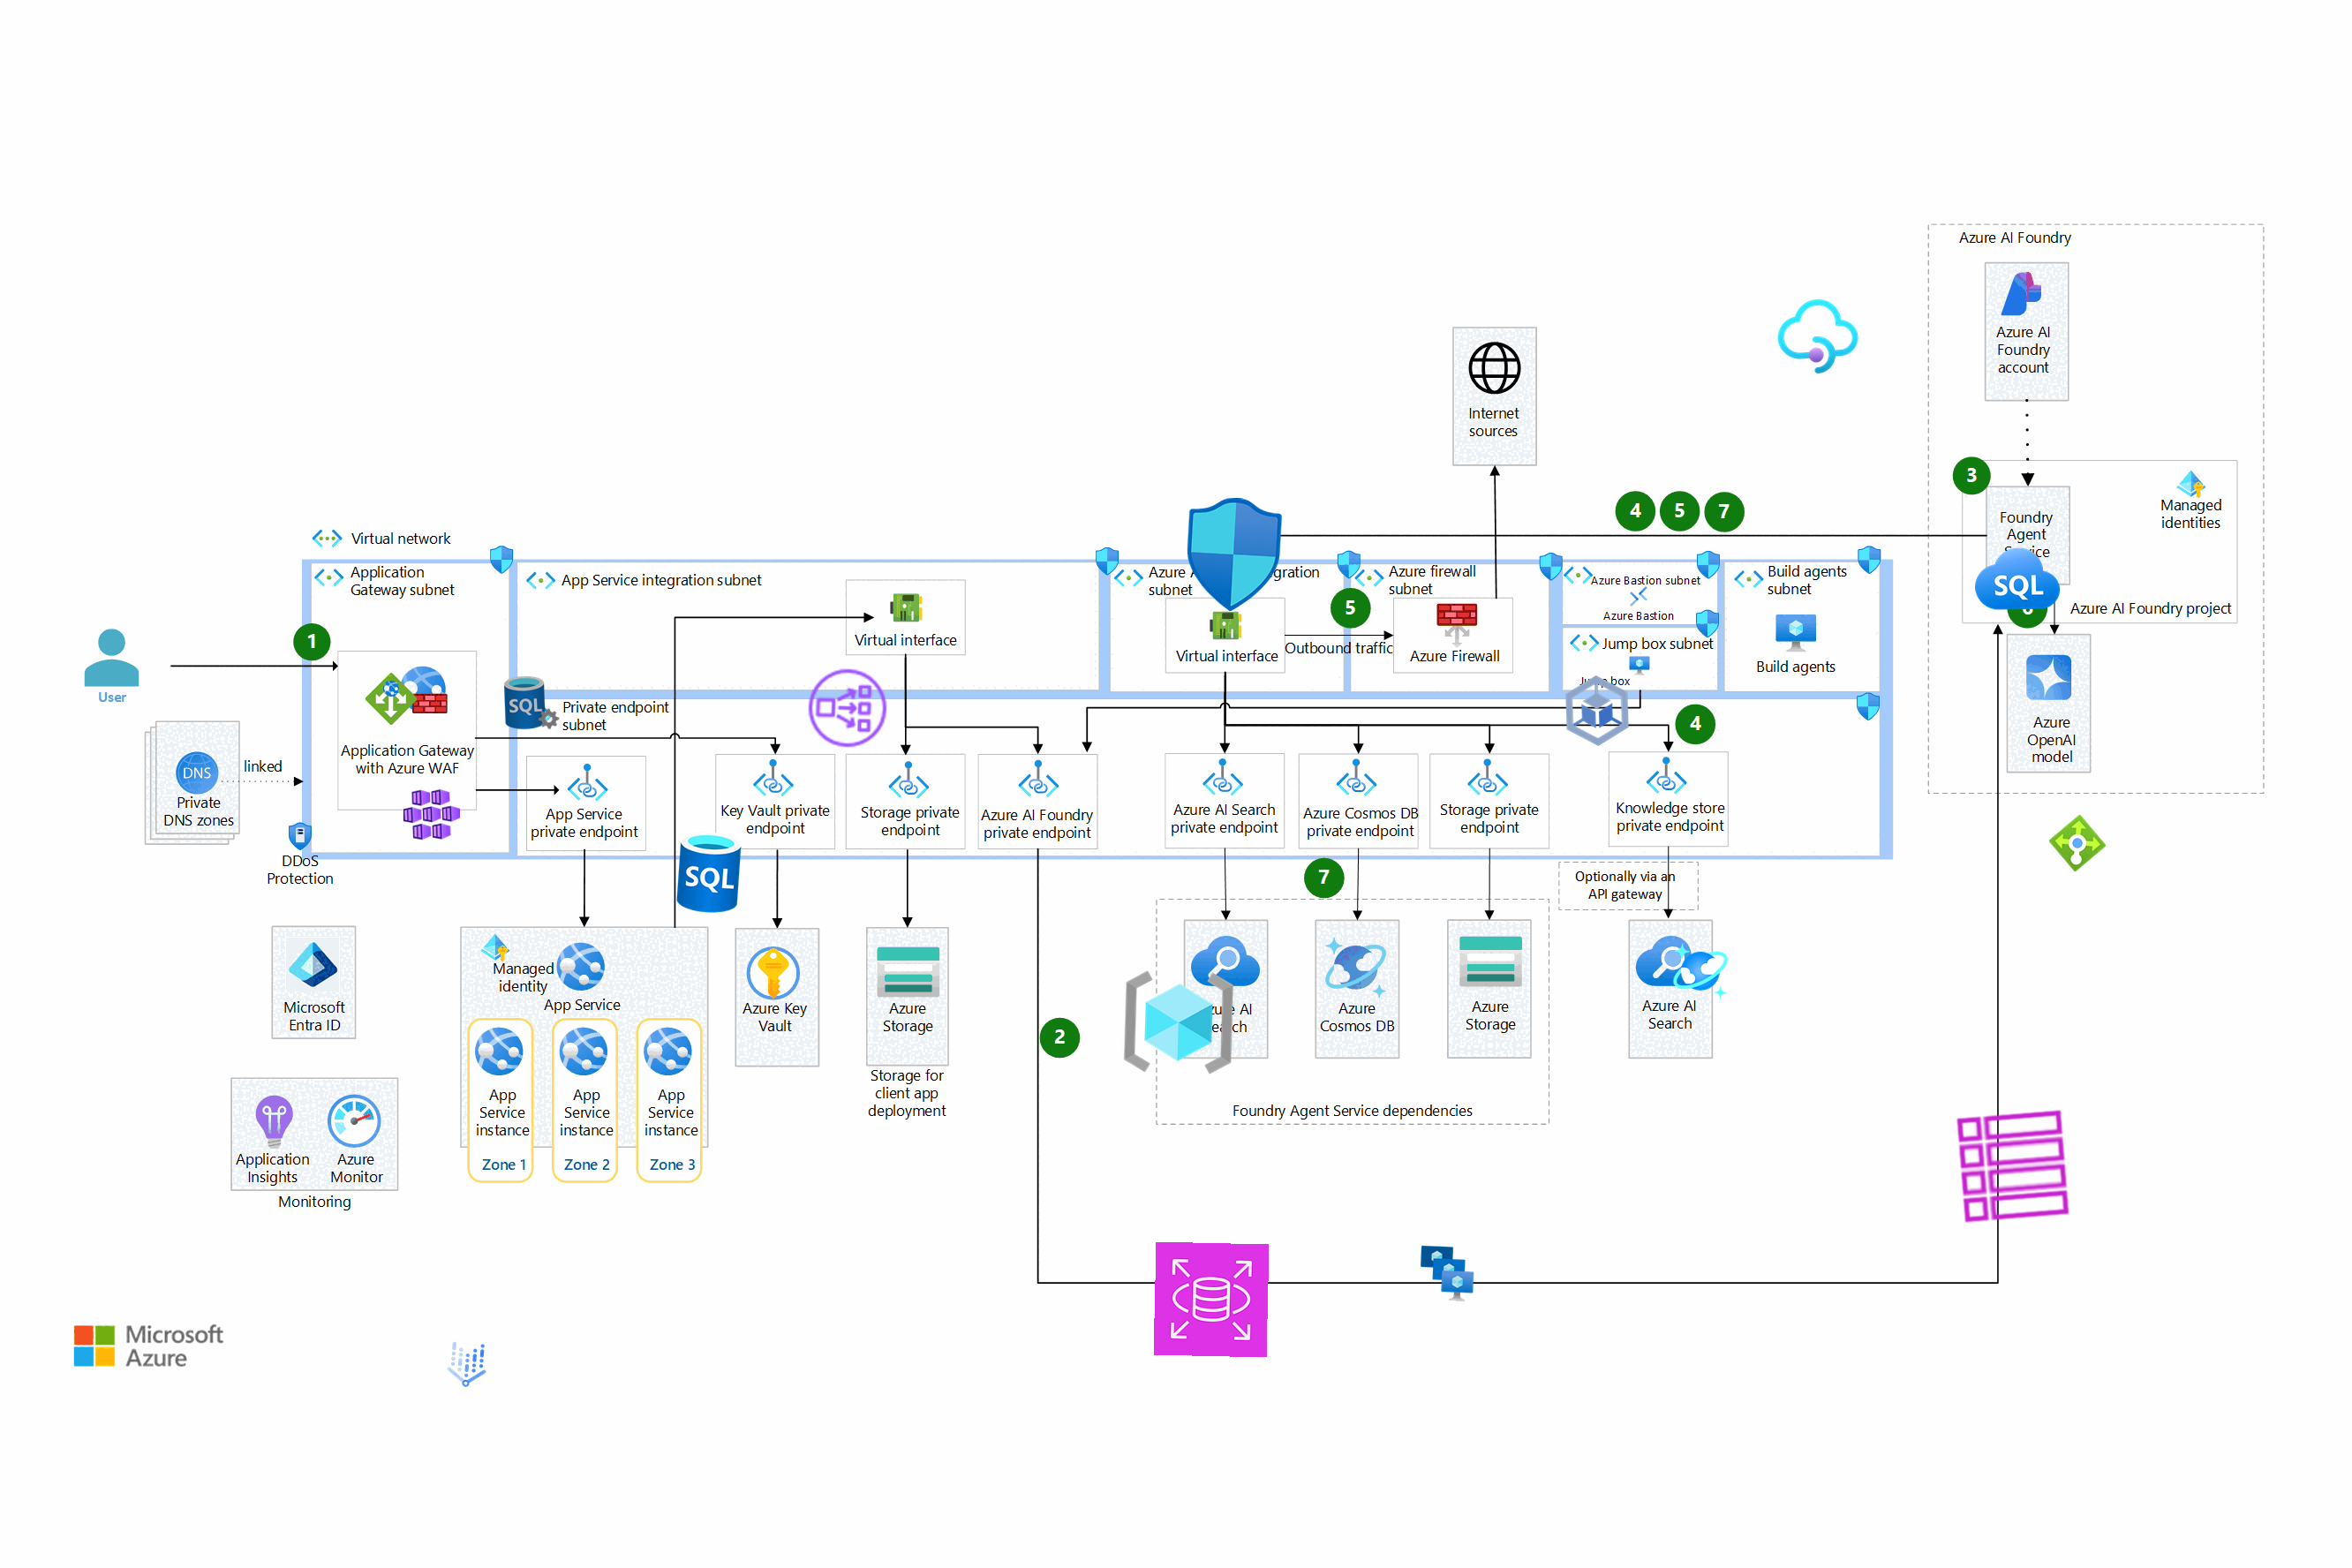aws_amazon_rds: (1153, 1241, 1269, 1358)
aws_dynamodb_table: (1951, 1106, 2074, 1227)
aws_elastic_load_balancing_network_load_balancer: (803, 663, 892, 752)
azure_api_management_services: (1773, 290, 1864, 381)
azure_cosmos_db: (1671, 941, 1731, 1001)
azure_kubernetes_services: (402, 784, 462, 843)
azure_load_balancers: (2046, 812, 2109, 873)
azure_network_security_groups: (1172, 495, 1293, 614)
azure_resource_groups: (1120, 964, 1237, 1081)
azure_sql: (1974, 537, 2061, 623)
azure_sql_database: (663, 826, 754, 919)
azure_sql_server: (502, 672, 562, 733)
azure_vm_scale_sets: (1416, 1242, 1477, 1302)
gcp_google_kubernetes_engine: (1552, 667, 1641, 754)
gcp_vertex_ai: (436, 1333, 499, 1396)
